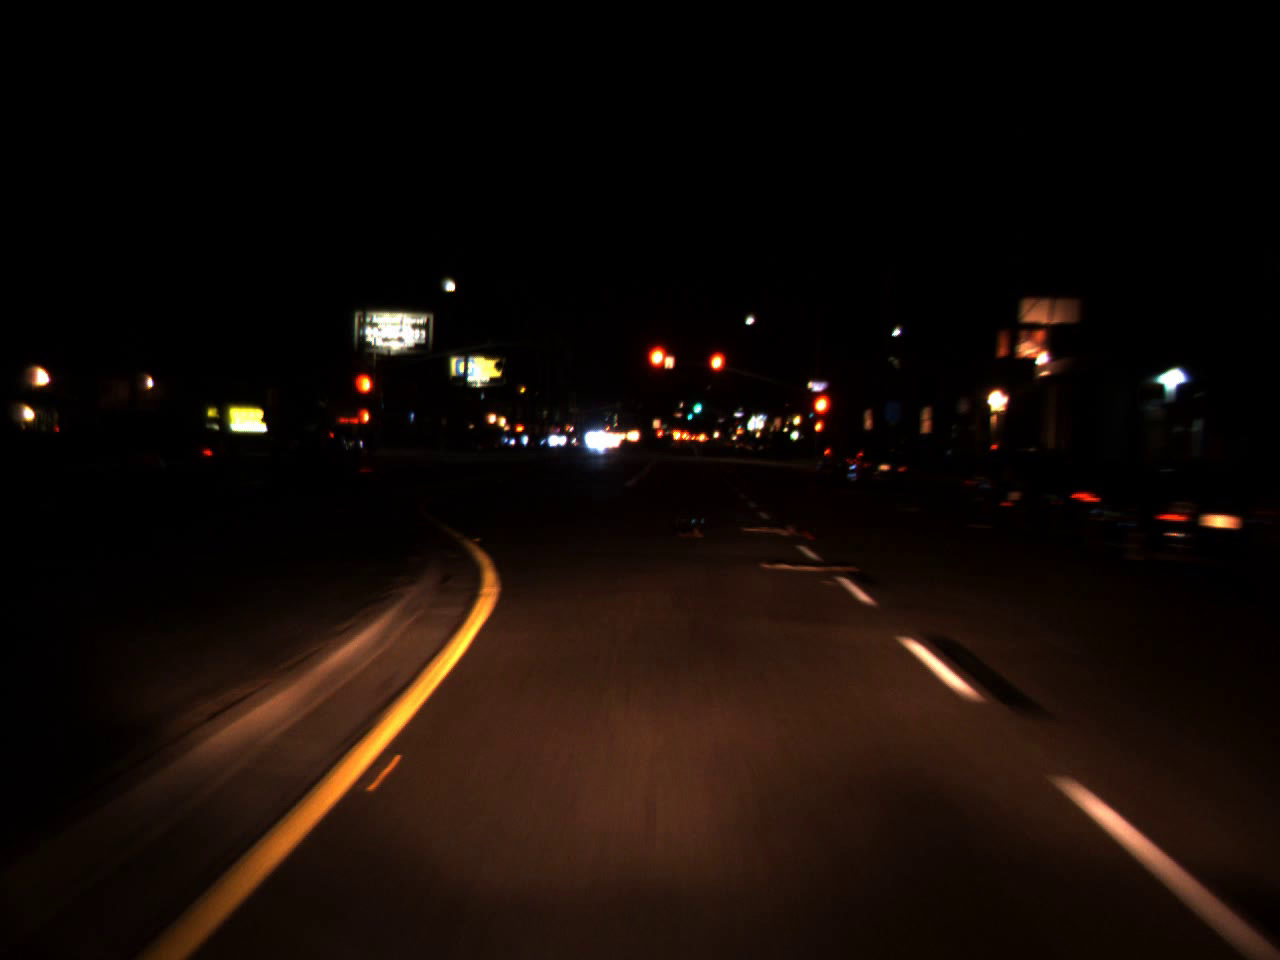go: (690, 394, 702, 415), (686, 409, 693, 421)
stop: (645, 342, 672, 393), (352, 370, 376, 415), (810, 391, 831, 436), (706, 350, 727, 393)
